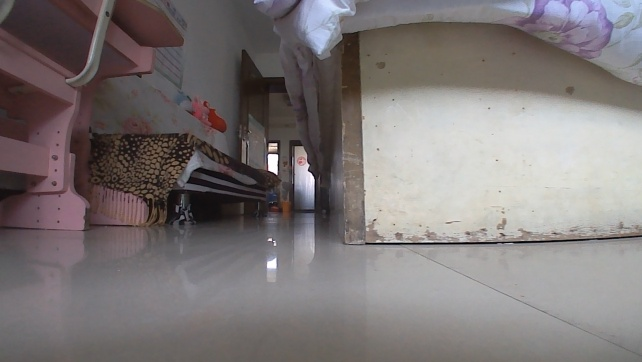bed1: (250, 0, 641, 247)
door_anno: (237, 46, 270, 220)
sofa1: (89, 129, 284, 228)
